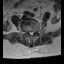CCS_stenosis: (30, 30, 32, 37)
LFS_stenosis: (34, 29, 36, 33)
LLS_stenosis: (32, 30, 34, 36)
RFS_severe_stenosis: (26, 29, 29, 34)
RLS_stenosis: (29, 30, 31, 35)
